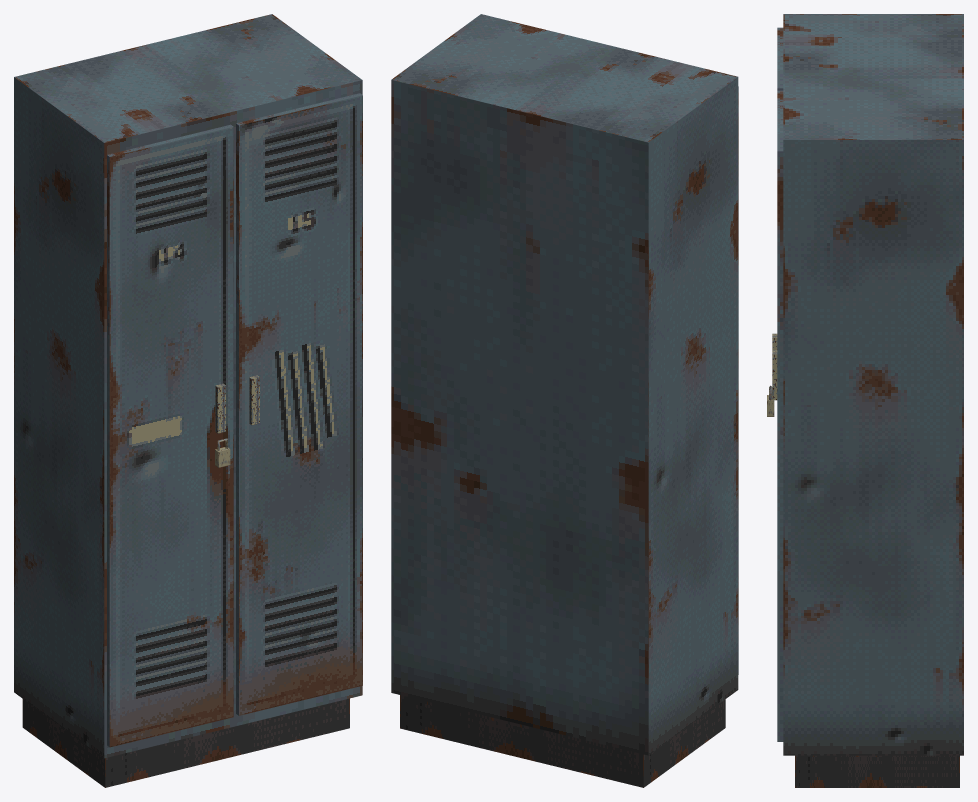
Rendered from locker_metal.glb.
3 renders of one model, left to right at view 1: azimuth 30°, elevation 25°; view 2: azimuth 150°, elevation 25°; view 3: azimuth 270°, elevation 25°, orthographic.
Parts seen in each view (by area): view 1: locker_metal; view 2: locker_metal; view 3: locker_metal.
Part boxes in pixels (box(x1,y1,x2,y2)): locker_metal: box(14, 14, 362, 787); locker_metal: box(391, 14, 738, 787); locker_metal: box(767, 14, 963, 787).
Size of the model in its own units: 0.76 by 1.83 by 0.501.
Materials: 1 (1 with a texture image).
